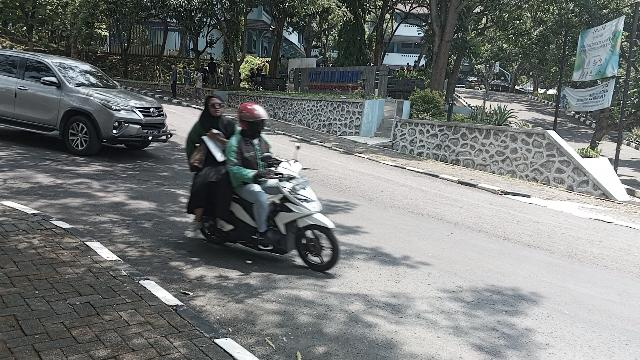helm: (240, 104, 269, 134)
motor: (201, 161, 339, 274)
non-helm: (207, 96, 226, 118)
